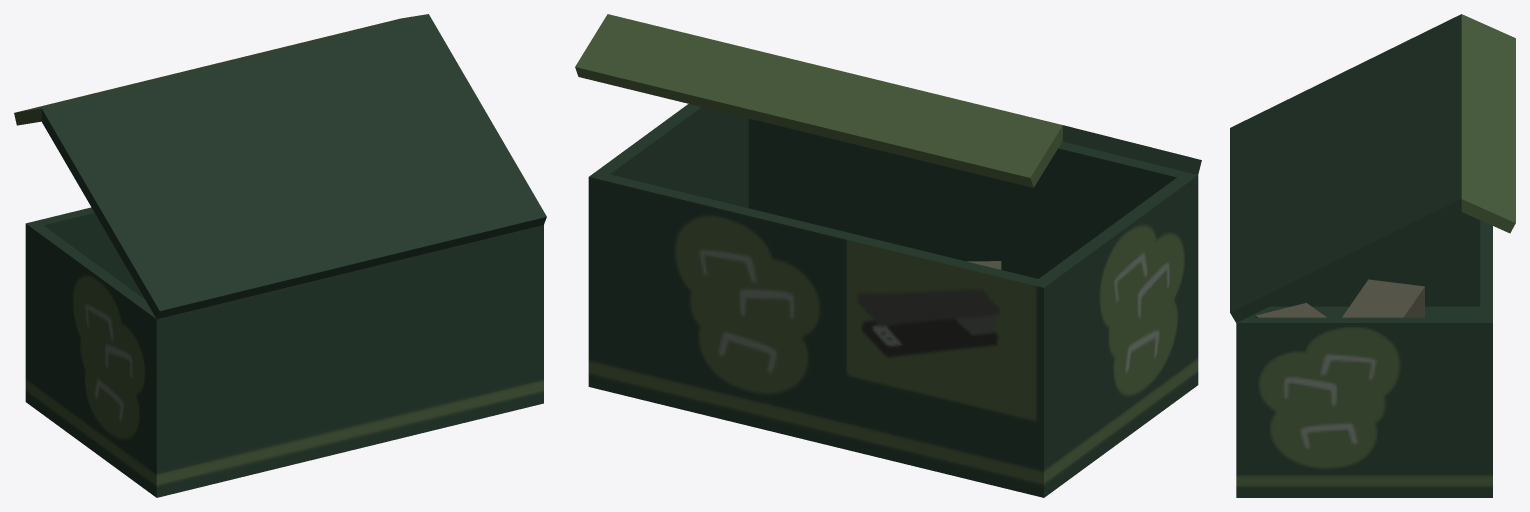
Rendered from SM_StaplesBox.fbx.
3 views of the same model, side by side, from view 1: azimuth 30°, elevation 25°; view 2: azimuth 150°, elevation 25°; view 3: azimuth 270°, elevation 25° (orthographic). The views are drawn at different scales.
Parts seen in each view (by area): view 1: SM_StaplesBox; view 2: SM_StaplesBox; view 3: SM_StaplesBox.
Part boxes in pixels (x1,y1,x2,y2): SM_StaplesBox: (14, 14, 546, 497); SM_StaplesBox: (575, 14, 1201, 497); SM_StaplesBox: (1230, 14, 1515, 497).
Size of the model in its own units: 34.21 by 25.78 by 22.33.
